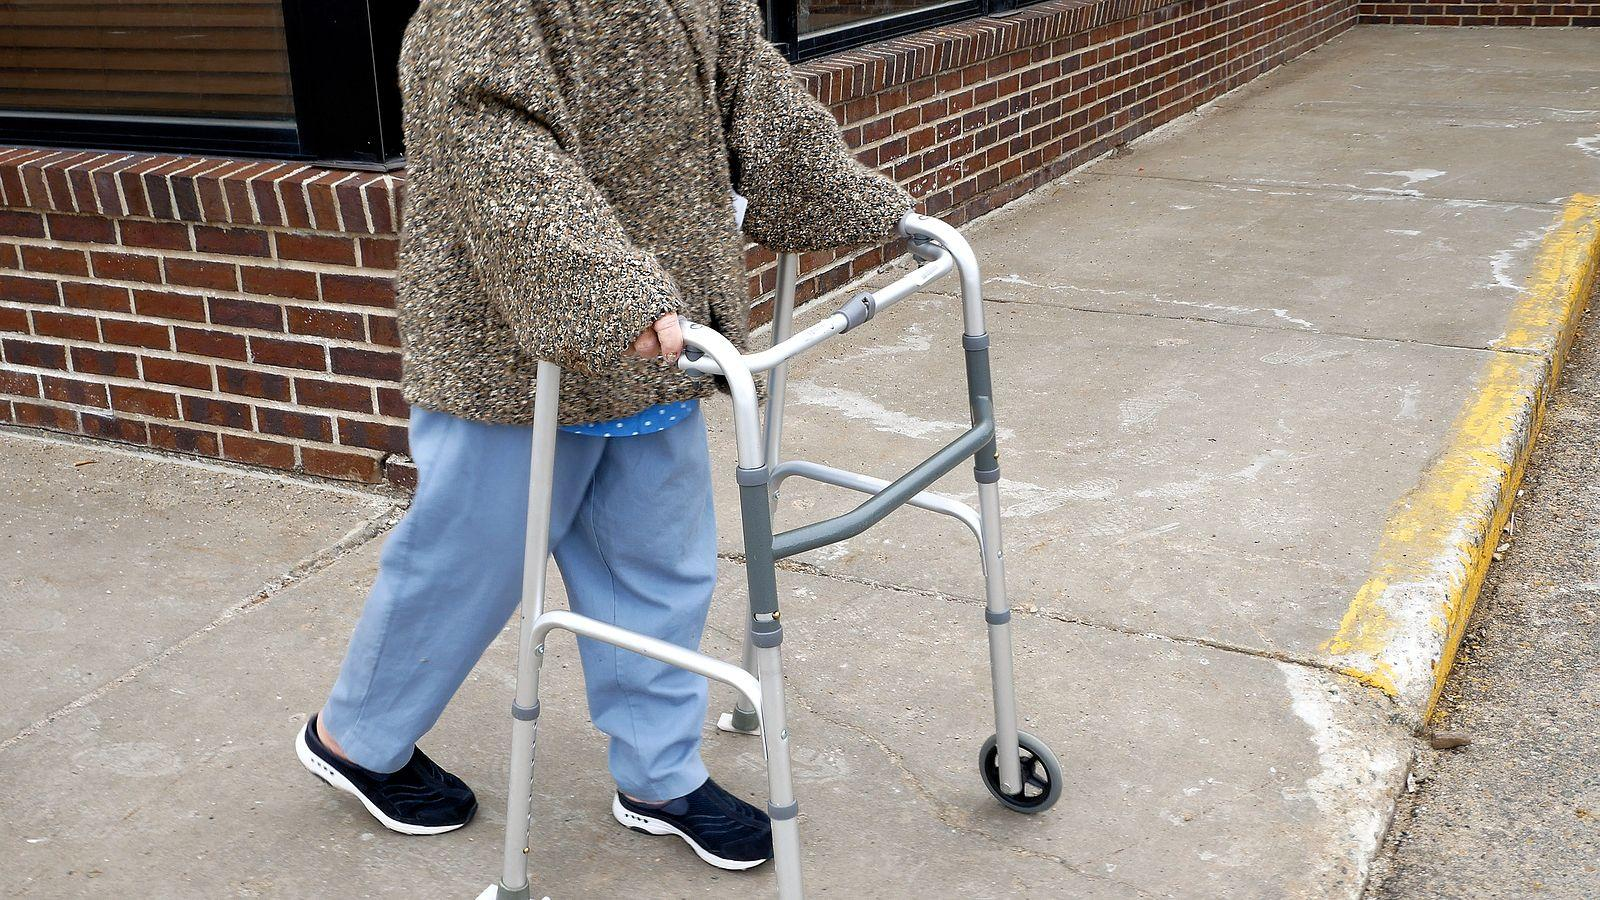walking_frame: (295, 0, 1065, 900)
